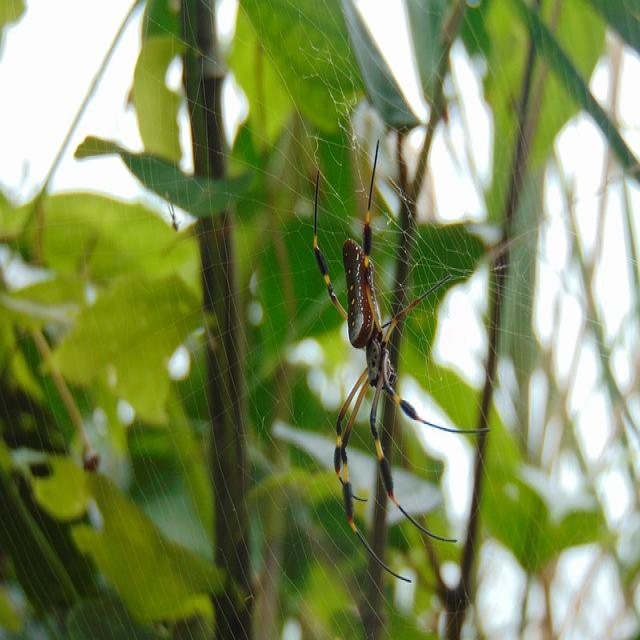spyder: (314, 140, 488, 582)
